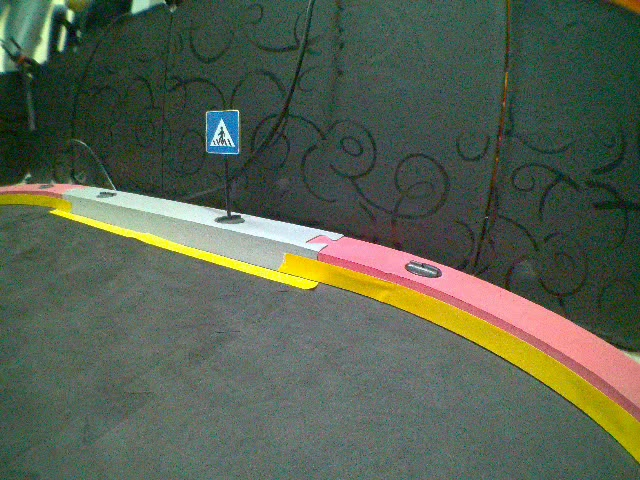crossing: (205, 111, 240, 154)
